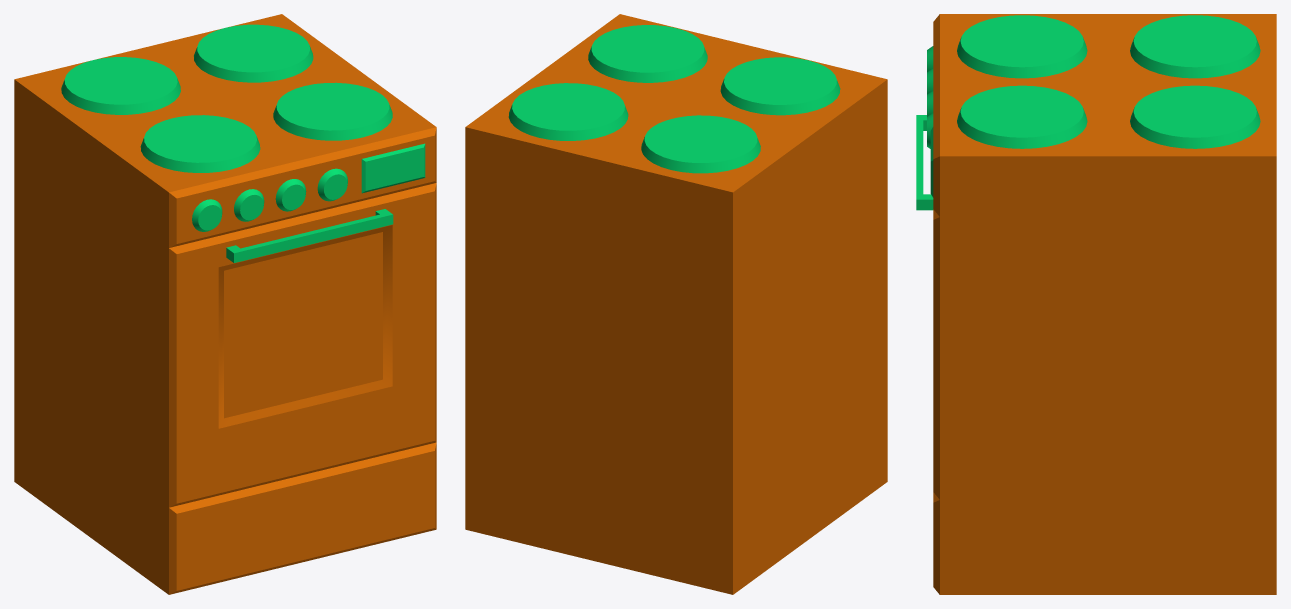
File: oven_mesh.fbx
The picture shows the model from 3 angles, left to right: view 1: azimuth 30°, elevation 25°; view 2: azimuth 150°, elevation 25°; view 3: azimuth 270°, elevation 25°; orthographic projection. The views are drawn at different scales.
Parts seen in each view (by area): view 1: attribdelete1; view 2: attribdelete1; view 3: attribdelete1.
Boxes of the visible parts, box(x1,y1,x2,y2) form: attribdelete1: box(14, 14, 436, 594); attribdelete1: box(465, 14, 887, 594); attribdelete1: box(916, 14, 1276, 594).
Size of the model in its own units: 1 by 1.47 by 1.07.
